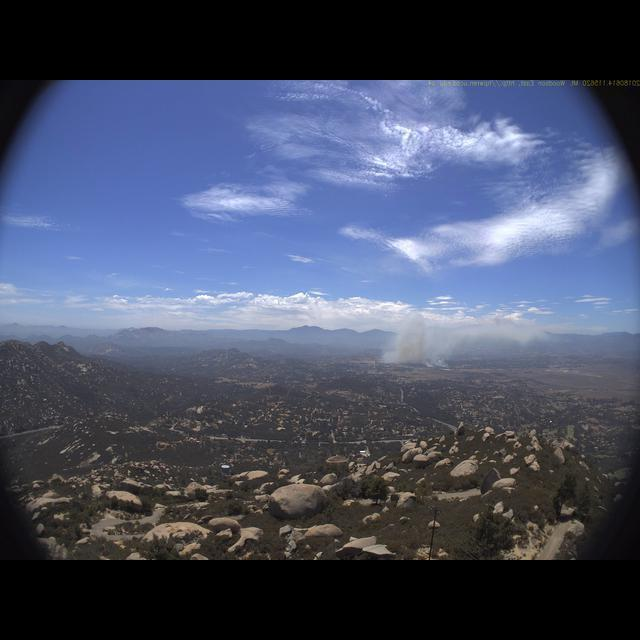Smoke: (379, 293, 558, 376)
